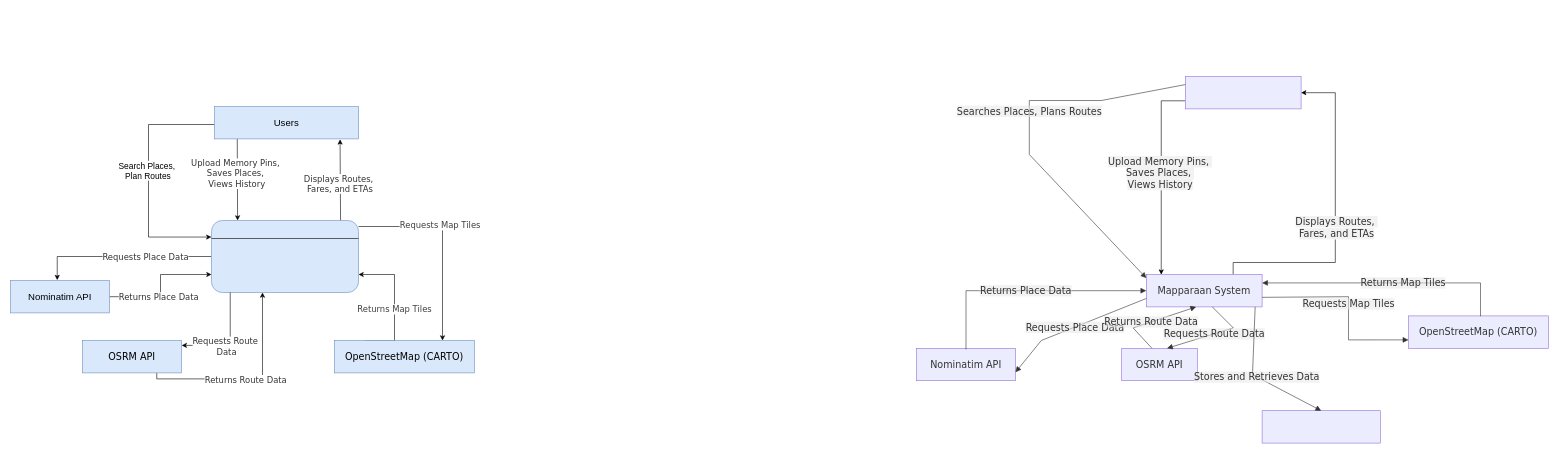
Some shapes in this 1559 by 454 pixel diagram are drawn without their labels. Each missing label, with the box of its shape:
MapParaan:: (211, 220, 358, 292)
Supabase Database: (1262, 410, 1380, 443)
User: (1185, 76, 1301, 109)
